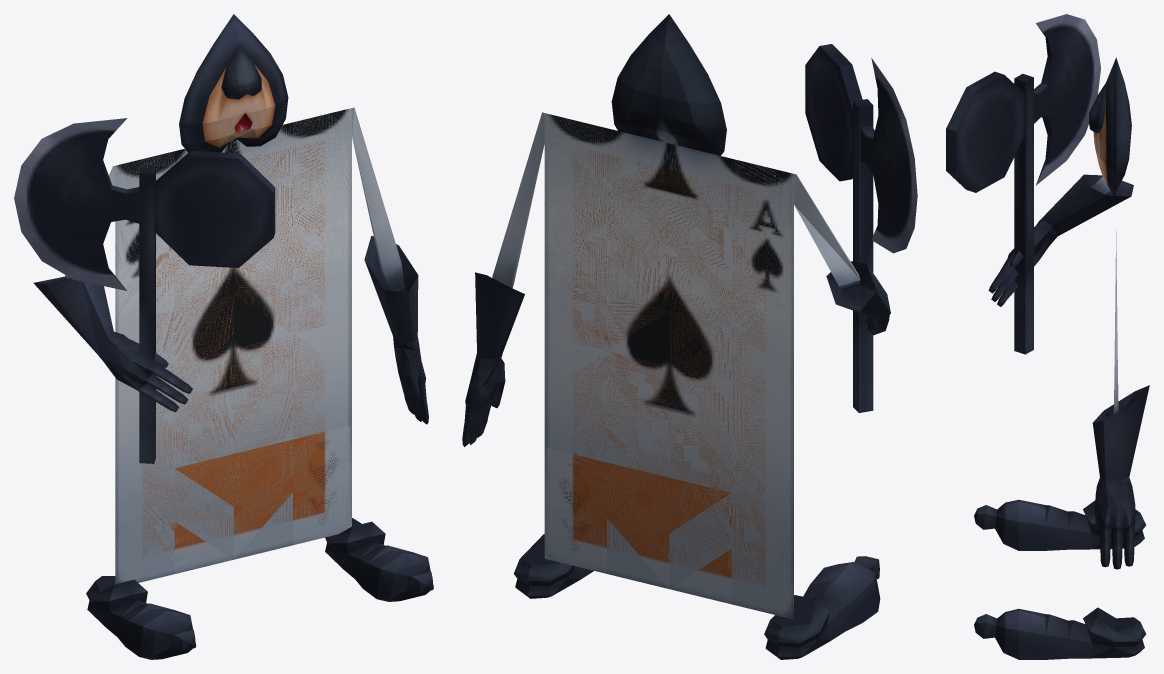
The model's file is BlackCard_2.fbx.
The picture shows the model from 3 angles, left to right: view 1: azimuth 30°, elevation 25°; view 2: azimuth 150°, elevation 25°; view 3: azimuth 270°, elevation 25°; orthographic projection. The views are drawn at different scales.
Parts seen in each view (by area): view 1: RigModels_Card-SoldierSpades; view 2: RigModels_Card-SoldierSpades; view 3: RigModels_Card-SoldierSpades.
Boxes of the visible parts, x1=… form: RigModels_Card-SoldierSpades: x1=14, y1=14, x2=433, y2=659; RigModels_Card-SoldierSpades: x1=462, y1=14, x2=917, y2=659; RigModels_Card-SoldierSpades: x1=946, y1=14, x2=1149, y2=659.
Bounding box in the file's own units: 267 × 352 × 120.
